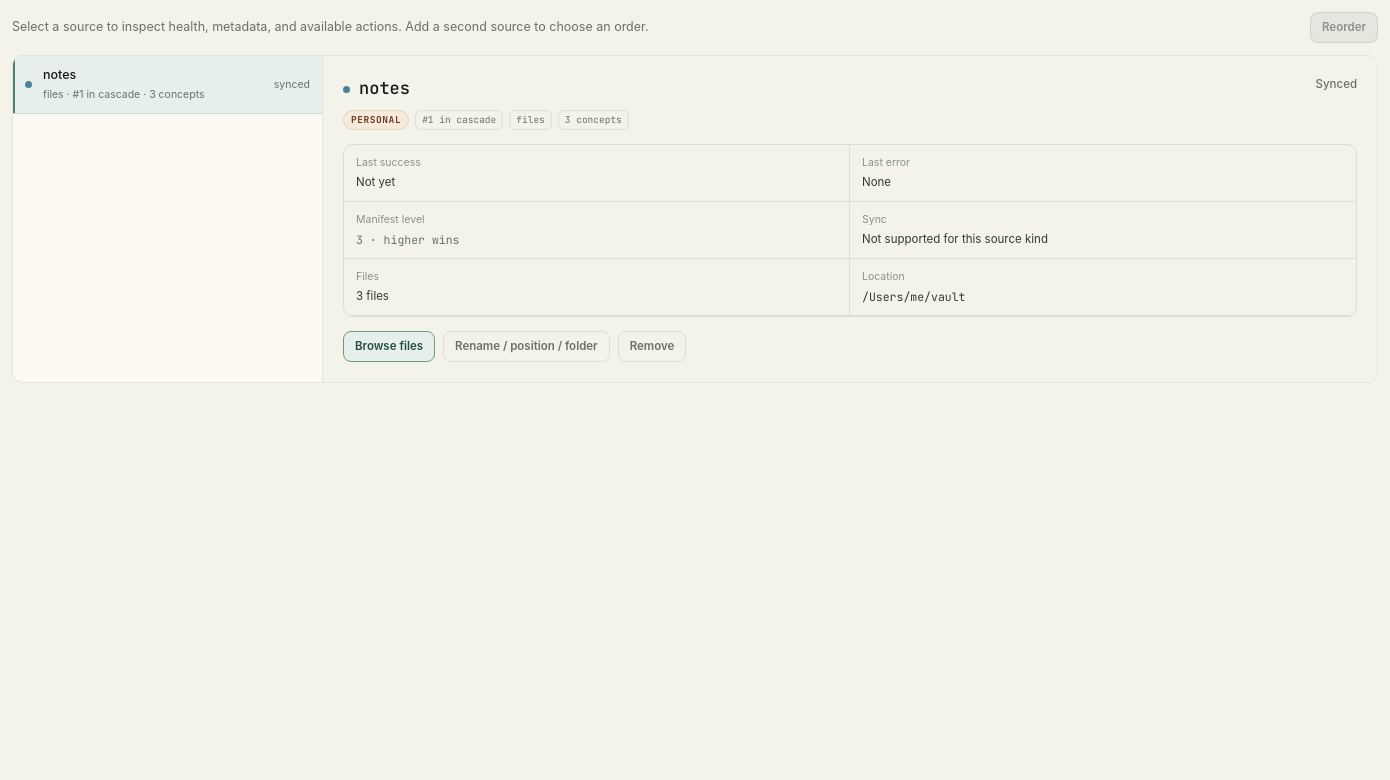
Sources: repointing a folder › fills the folder field from the native picker
Click the button "Rename / position / folder" at {"x": 526, "y": 347}, box [443,331,610,362]
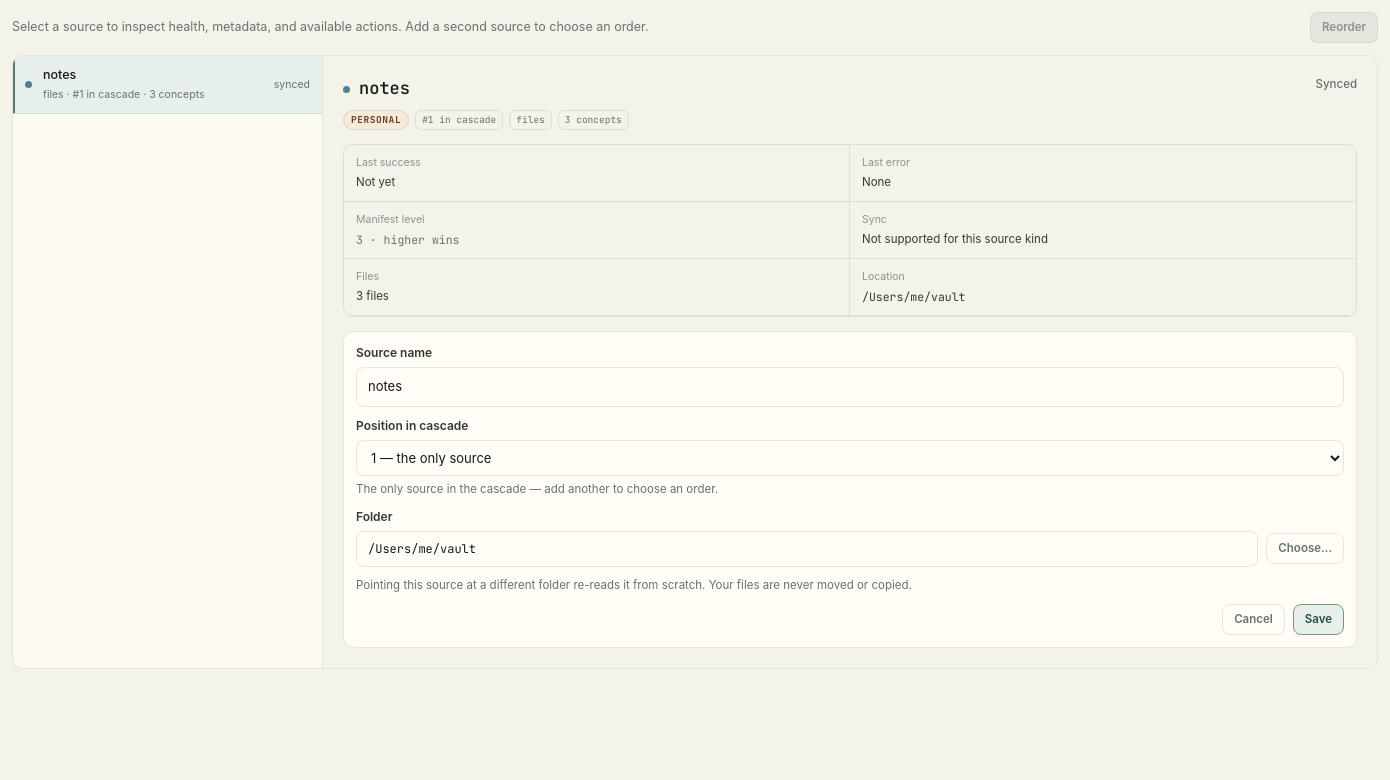
Click the button "Choose…" at {"x": 1305, "y": 549}, box [1266,533,1344,564]
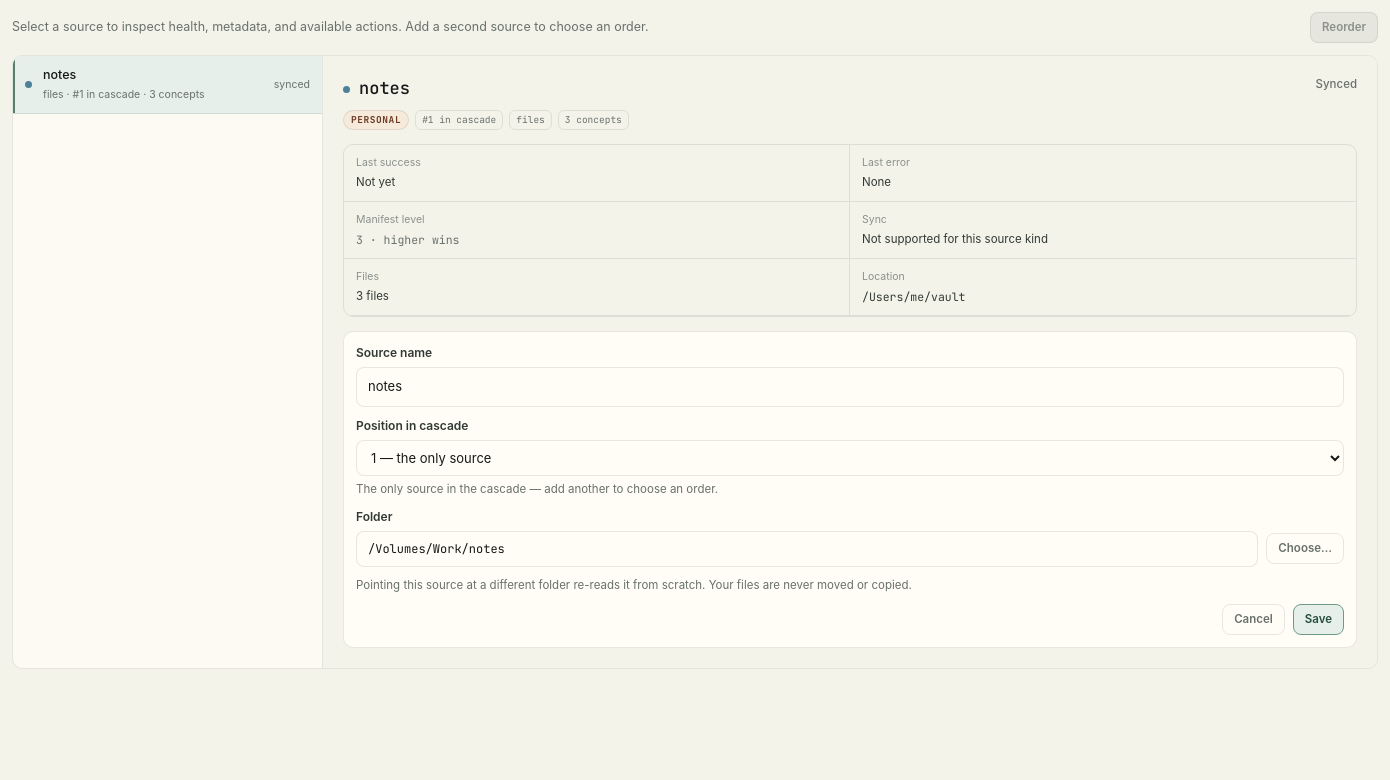
Check: the field with id "src-edit-path" holds "/Volumes/Work/notes", box [356,531,1258,567]
